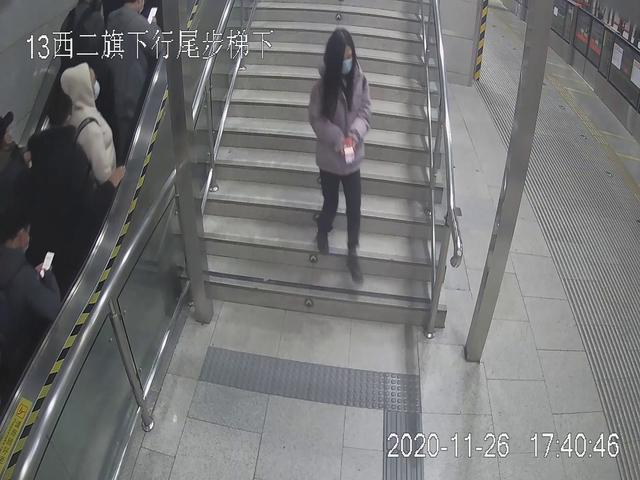person: (305, 27, 390, 279), (61, 59, 125, 209)
